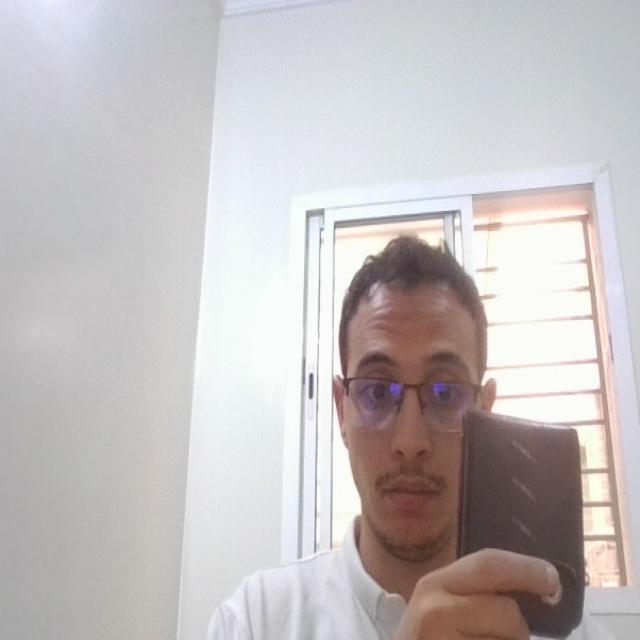wallet: (454, 399, 592, 640)
